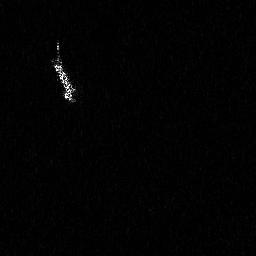ship: (49, 39, 76, 103)
